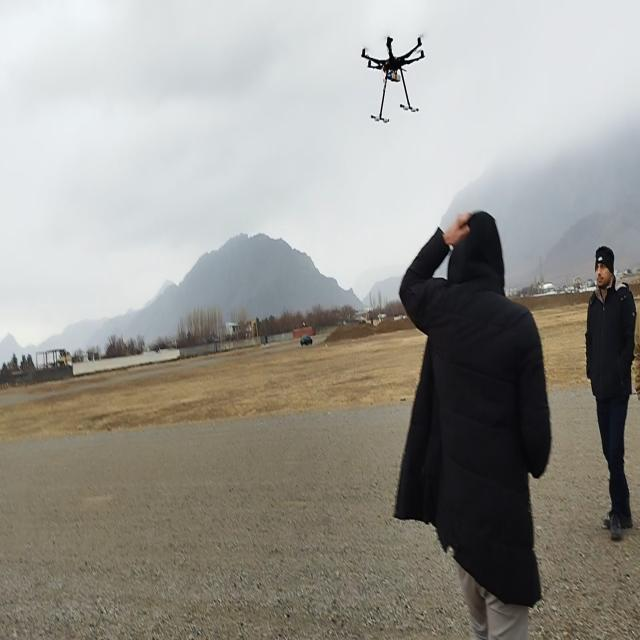drone: (360, 30, 426, 123)
